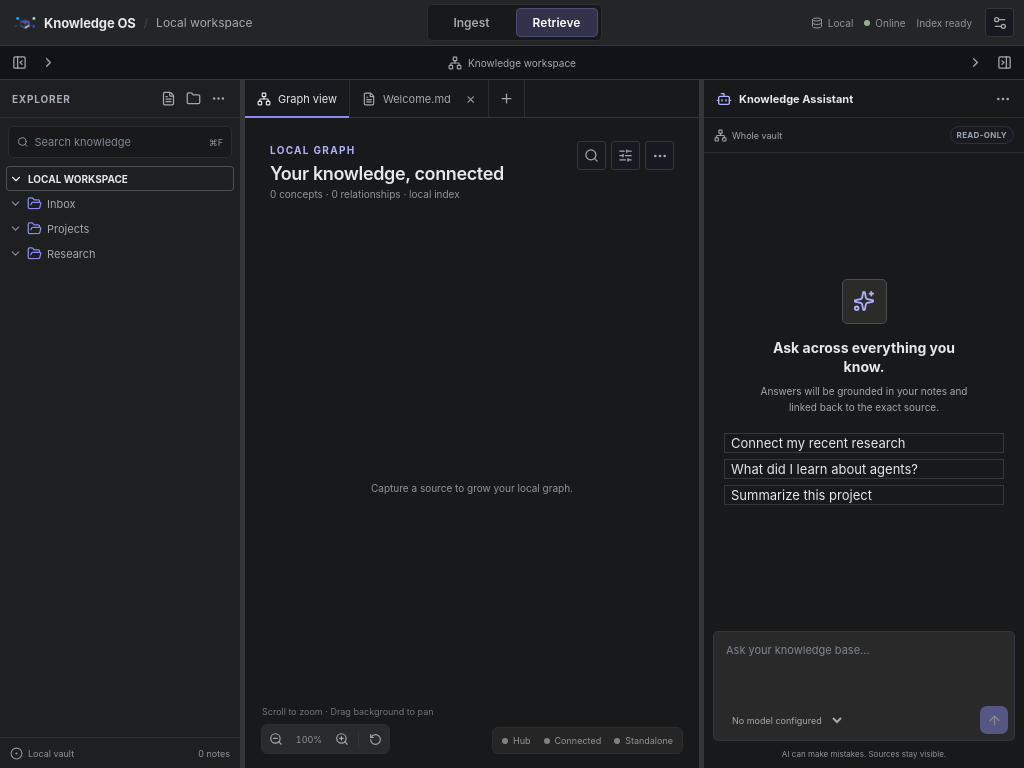
Test: application shell › closes the context menu on Escape without acting
Step 1. Right-click the button "Research" → coordinates (120, 254), box [6, 241, 234, 266]
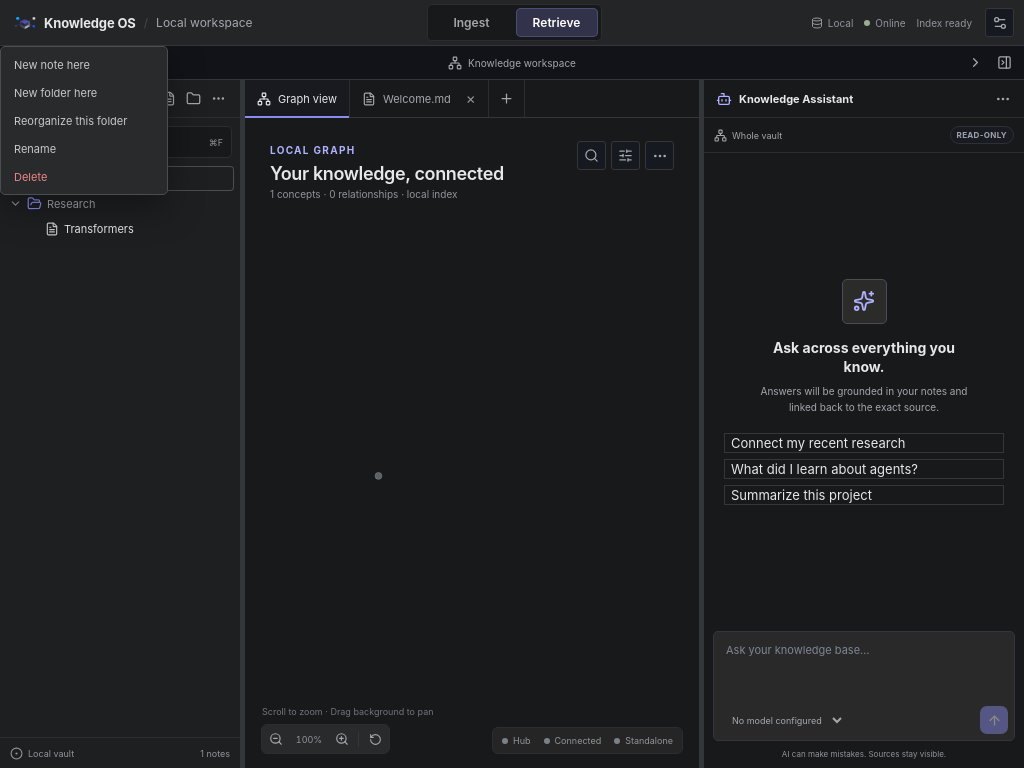
Now the menu is shown, box [0, 46, 168, 195]
Step 2. Press Escape
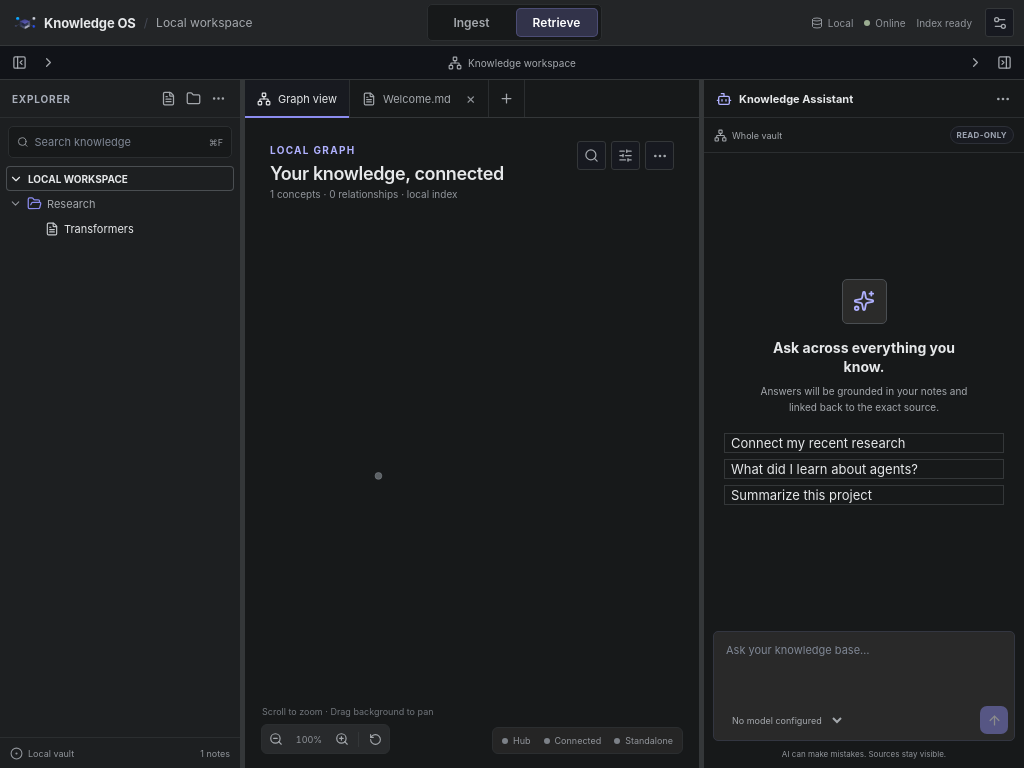
Now the menu is gone
